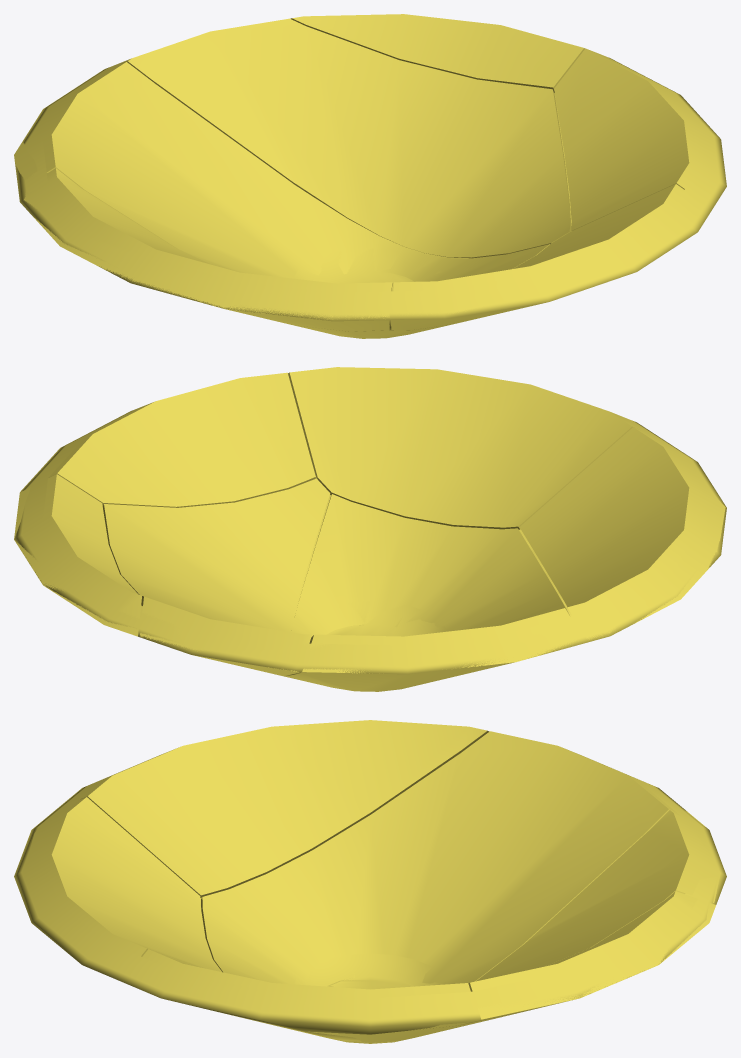
Rendered from Fruit bowl - Proxy.fbx.
3 views of the same model, one above another, from view 1: azimuth 30°, elevation 25°; view 2: azimuth 150°, elevation 25°; view 3: azimuth 270°, elevation 25° (orthographic).
Parts seen in each view (by area): view 1: Fruit_Bowl_cell.005, Fruit_Bowl_cell, Fruit_Bowl, Fruit_Bowl_cell.002, Fruit_Bowl_cell.004, Fruit_Bowl_cell.003, Fruit_Bowl_cell.001; view 2: Fruit_Bowl_cell.001, Fruit_Bowl_cell, Fruit_Bowl_cell.005, Fruit_Bowl_cell.002, Fruit_Bowl_cell.004, Fruit_Bowl, Fruit_Bowl_cell.003; view 3: Fruit_Bowl_cell, Fruit_Bowl_cell.004, Fruit_Bowl, Fruit_Bowl_cell.001, Fruit_Bowl_cell.005, Fruit_Bowl_cell.003, Fruit_Bowl_cell.002.
Boxes of the visible parts, <box> form: Fruit_Bowl_cell.005: <box>121,18,571,258</box>; Fruit_Bowl_cell: <box>14,62,549,338</box>; Fruit_Bowl: <box>15,51,726,331</box>; Fruit_Bowl_cell.002: <box>554,48,698,230</box>; Fruit_Bowl_cell.004: <box>24,168,392,331</box>; Fruit_Bowl_cell.003: <box>290,14,585,92</box>; Fruit_Bowl_cell.001: <box>391,184,684,330</box>; Fruit_Bowl_cell.001: <box>288,367,639,529</box>; Fruit_Bowl_cell: <box>285,494,582,691</box>; Fruit_Bowl_cell.005: <box>103,478,330,675</box>; Fruit_Bowl_cell.002: <box>48,372,315,507</box>; Fruit_Bowl_cell.004: <box>519,427,725,639</box>; Fruit_Bowl: <box>14,404,726,676</box>; Fruit_Bowl_cell.003: <box>14,474,141,636</box>; Fruit_Bowl_cell: <box>201,731,705,1043</box>; Fruit_Bowl_cell.004: <box>80,720,489,897</box>; Fruit_Bowl: <box>14,749,726,1043</box>; Fruit_Bowl_cell.001: <box>29,797,221,971</box>; Fruit_Bowl_cell.005: <box>308,810,720,1042</box>; Fruit_Bowl_cell.003: <box>468,891,715,1019</box>; Fruit_Bowl_cell.002: <box>142,949,470,1030</box>.
Size of the model in its own units: 83.63 by 20.38 by 83.63.
